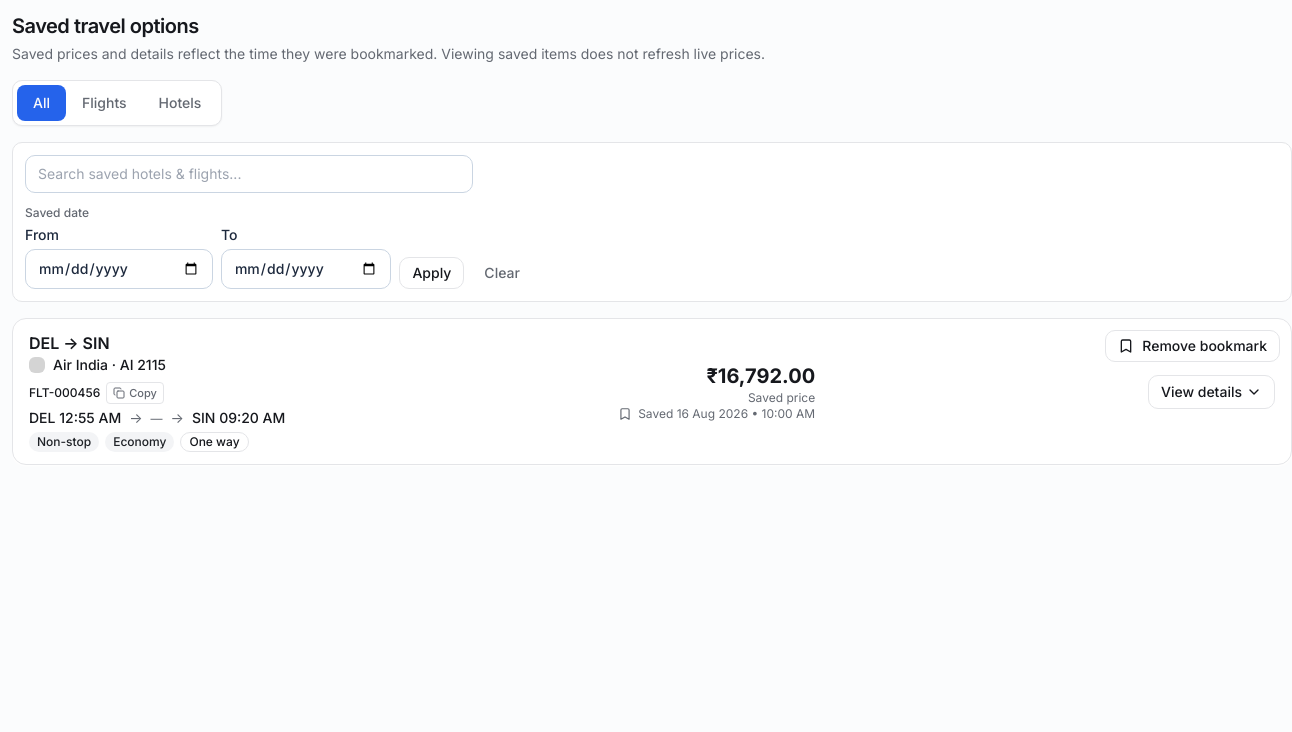
it: BookmarksPage › opens saved flight View details using the DB snapshot
Expected: the heading "DEL → SIN" is shown, [29,333,110,353]
Click the button "View details" at (1212, 392), box [1148,374,1275,408]
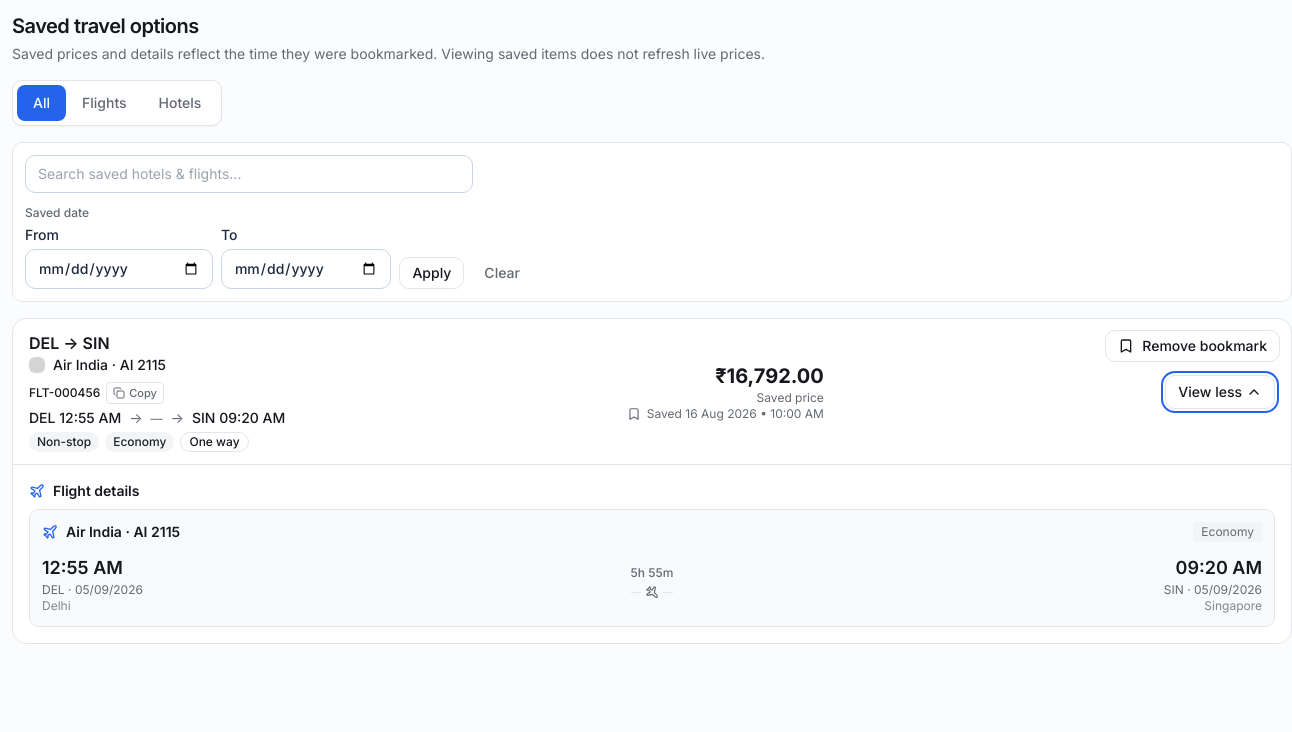
Result: the heading "Flight details" is shown at [29,482,140,499]
Result: the text "12:55 AM" is shown at [42,557,123,578]
Result: the text "09:20 AM" is shown at [1176,557,1262,578]
